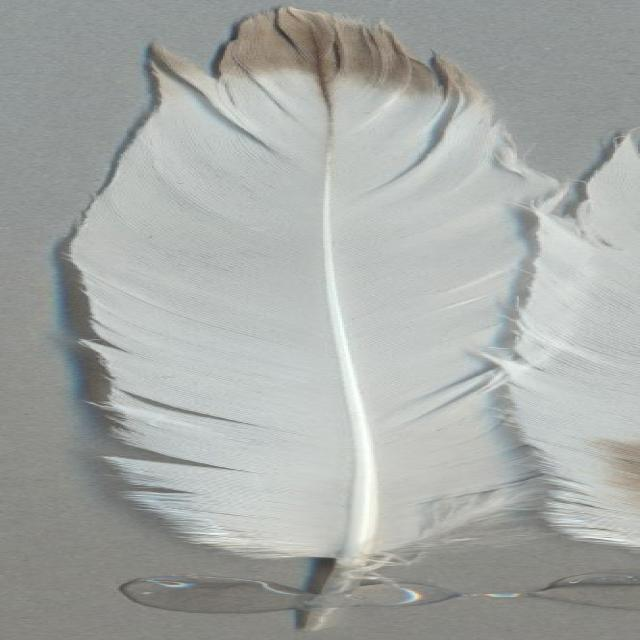feather: (45, 9, 557, 628)
